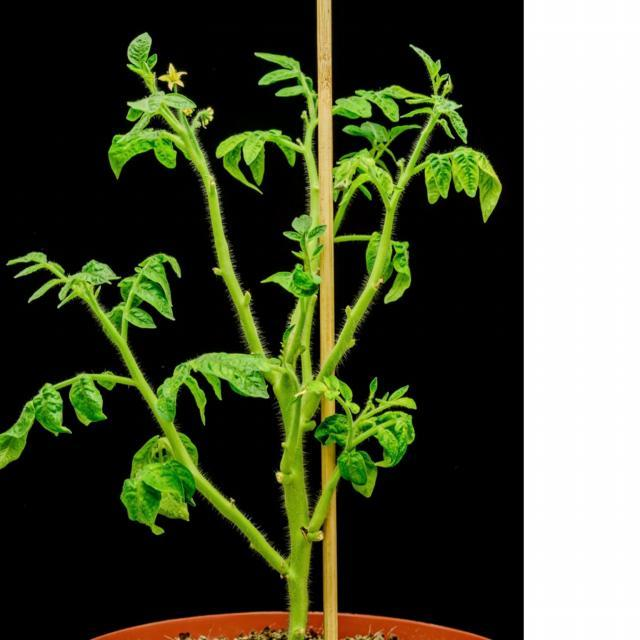tomato: (1, 34, 503, 640)
